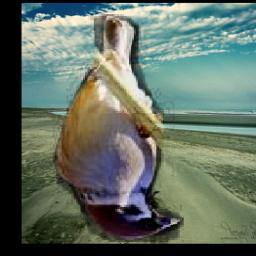Sparrow: (51, 14, 183, 242)
